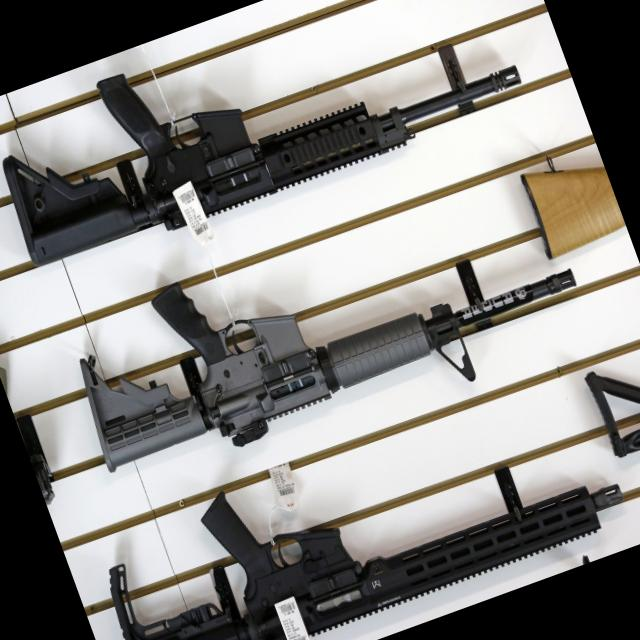Weapon: (49, 142, 600, 490), (86, 366, 640, 640), (0, 0, 535, 279)
